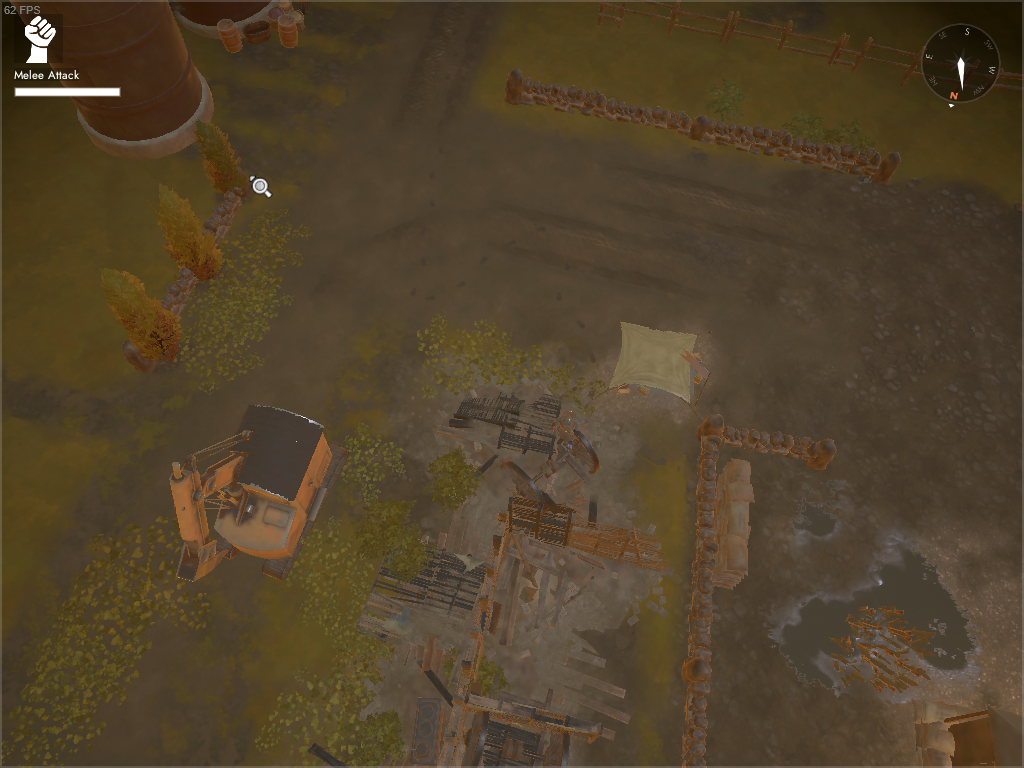foxhole: (579, 313, 714, 424)
player: (549, 408, 577, 447)
sandbag: (710, 457, 753, 591)
scv: (168, 404, 355, 586)
